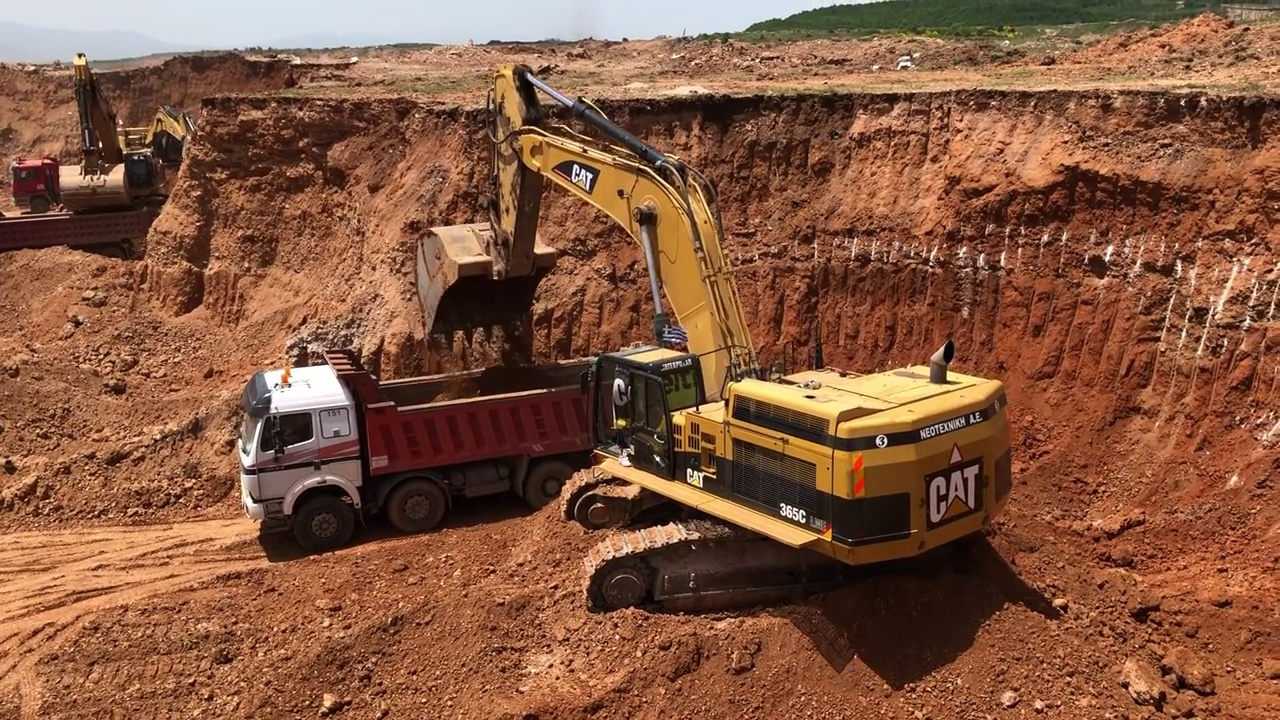excavator: (417, 61, 1012, 618), (61, 49, 191, 204)
truck: (236, 347, 627, 546), (3, 208, 146, 254), (8, 157, 96, 210)
